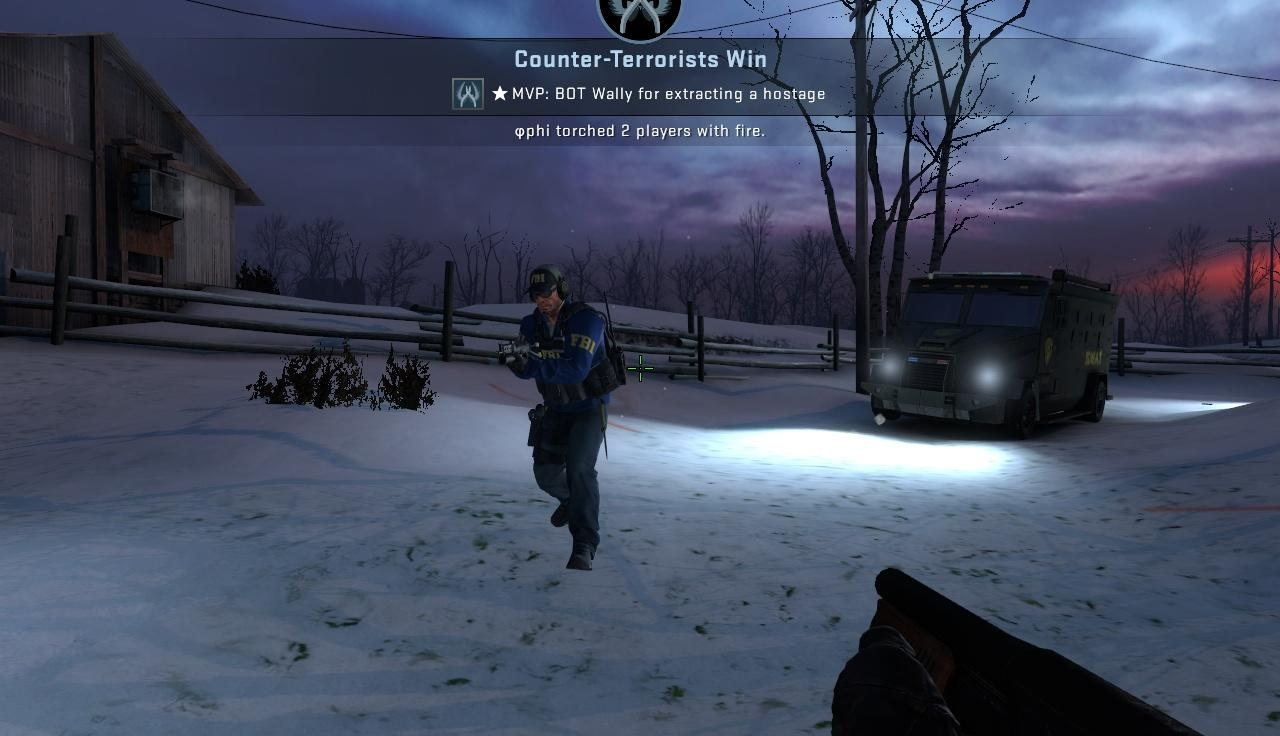ct: (502, 263, 620, 578)
cthead: (526, 264, 568, 316)
shotgun: (835, 557, 1202, 736)
